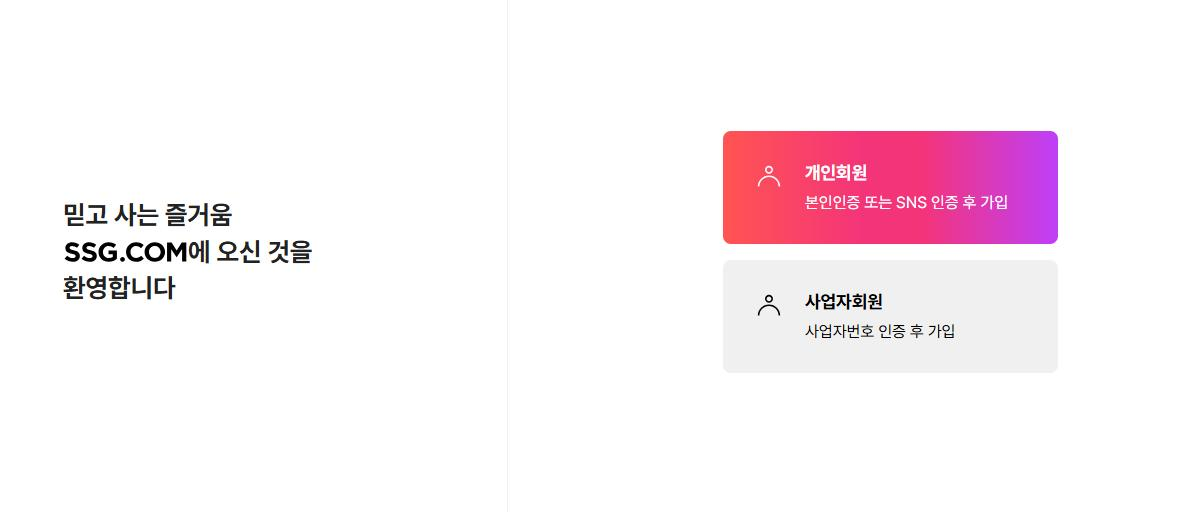button: (723, 128, 1059, 244), (723, 259, 1060, 374)
